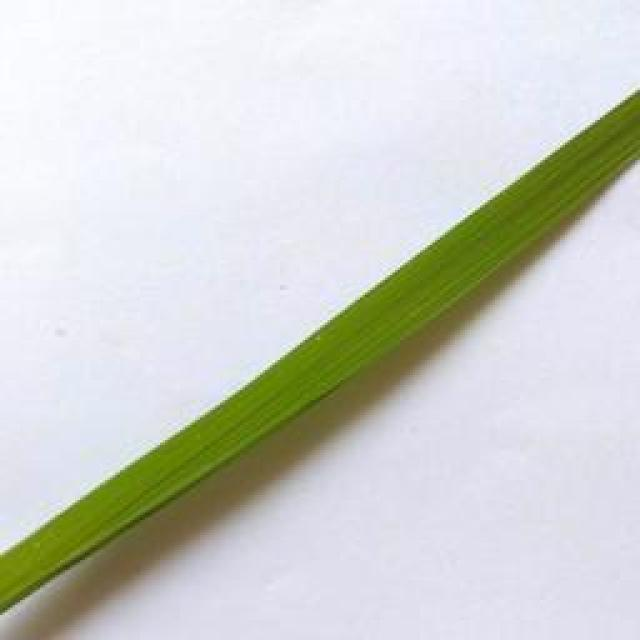Healthy-Plant: (0, 91, 640, 614)
